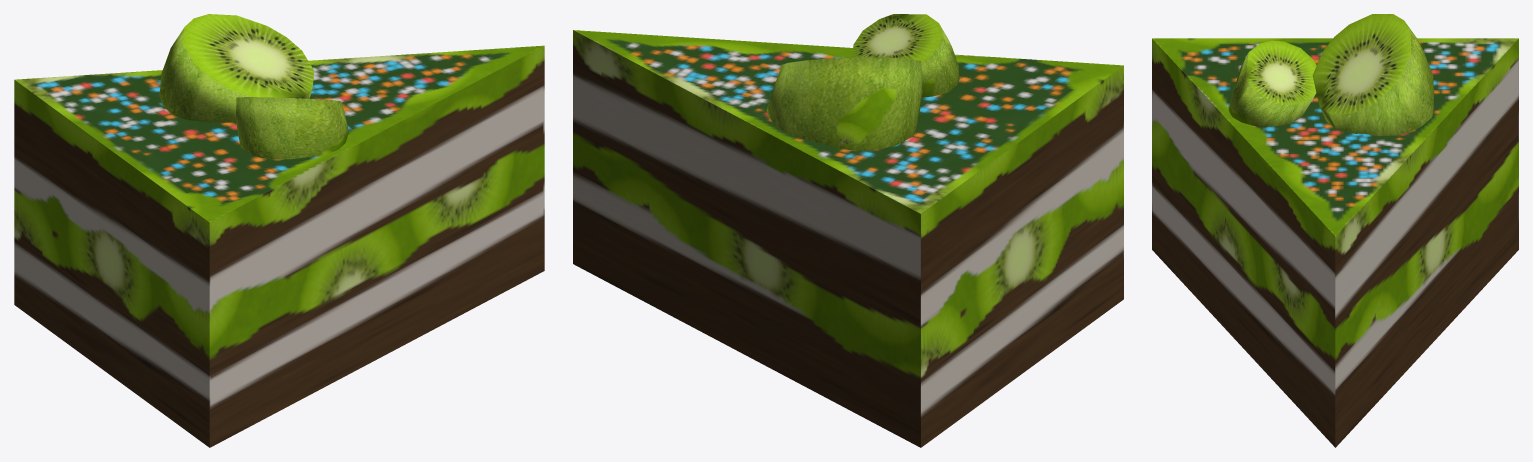
File: Cake_D.glb
3 renders of one model, left to right at view 1: azimuth 30°, elevation 25°; view 2: azimuth 150°, elevation 25°; view 3: azimuth 270°, elevation 25°, orthographic. The views are drawn at different scales.
Visible parts, largest first — view 1: Cake_D; view 2: Cake_D; view 3: Cake_D.
Part boxes in pixels (bbox=[...]): Cake_D: bbox=[14, 14, 544, 447]; Cake_D: bbox=[573, 14, 1123, 447]; Cake_D: bbox=[1152, 14, 1518, 447].
Bounding box in the file's own units: 0.5769 × 0.3854 × 0.4514.
1 material, 1 textured.
